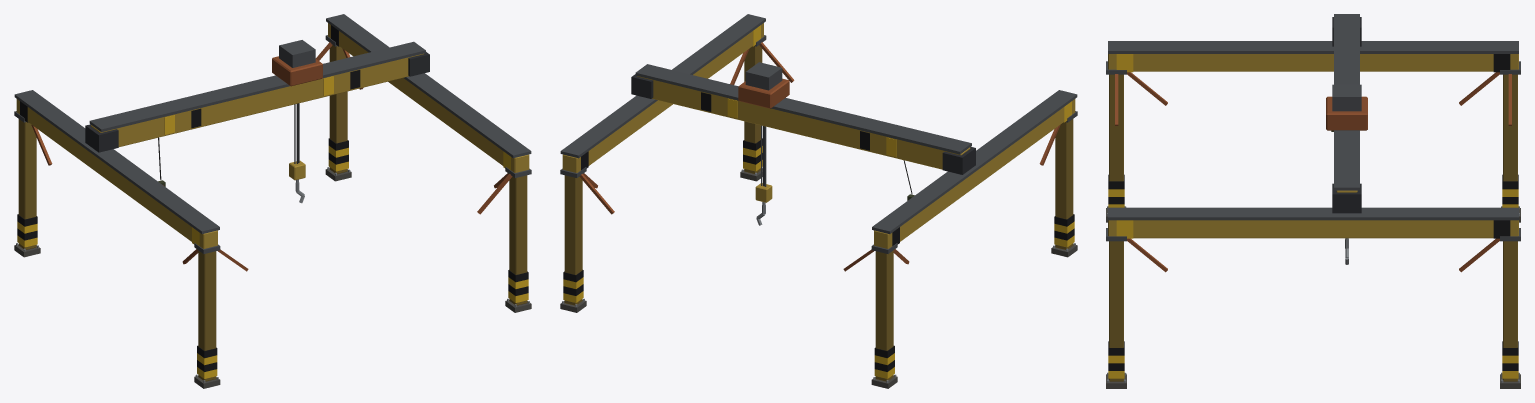
The model's file is lmk_factory_crane.fbx.
3 renders of one model, left to right at view 1: azimuth 30°, elevation 25°; view 2: azimuth 150°, elevation 25°; view 3: azimuth 270°, elevation 25°, orthographic. The views are drawn at different scales.
Parts seen in each view (by area): view 1: lmk_factory_crane; view 2: lmk_factory_crane; view 3: lmk_factory_crane.
Boxes of the visible parts, <box> form: lmk_factory_crane: <box>14,14,531,388</box>; lmk_factory_crane: <box>560,14,1077,388</box>; lmk_factory_crane: <box>1106,14,1520,388</box>.
Bounding box in the file's own units: 10 × 6.1 × 9.9.
